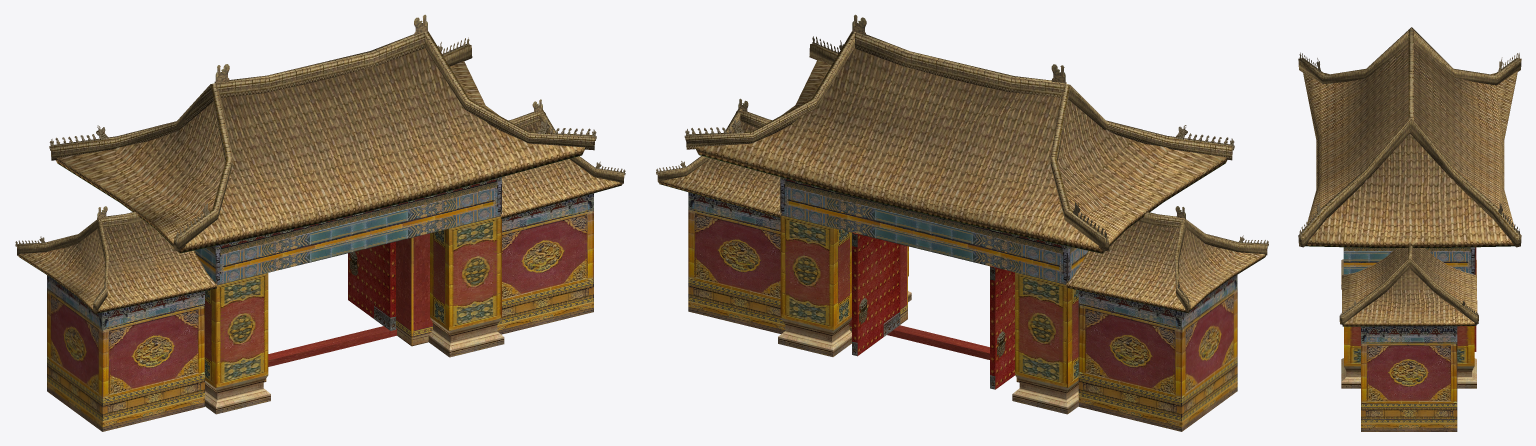
Rendered from cj_pal_bigdoor.glb.
3 views of the same model, side by side, from view 1: azimuth 30°, elevation 25°; view 2: azimuth 150°, elevation 25°; view 3: azimuth 270°, elevation 25° (orthographic). The views are drawn at different scales.
Parts seen in each view (by area): view 1: CJ_pal_bigdoor_roof01, CJ_pal_bigdoor_wall01, CJ_pal_bigdoor_door, CJ_pal_bigdoor_roof03_al, CJ_pal_bigdoor_roof02_al; view 2: CJ_pal_bigdoor_roof01, CJ_pal_bigdoor_wall01, CJ_pal_bigdoor_door, CJ_pal_bigdoor_roof03_al, CJ_pal_bigdoor_roof02_al; view 3: CJ_pal_bigdoor_roof01, CJ_pal_bigdoor_wall01, CJ_pal_bigdoor_roof03_al.
Part boxes in pixels (x1=…): CJ_pal_bigdoor_roof01: x1=17, y1=31, x2=624, y2=313; CJ_pal_bigdoor_wall01: x1=47, y1=177, x2=593, y2=431; CJ_pal_bigdoor_door: x1=348, y1=241, x2=395, y2=330; CJ_pal_bigdoor_roof03_al: x1=15, y1=37, x2=625, y2=304; CJ_pal_bigdoor_roof02_al: x1=97, y1=14, x2=542, y2=218; CJ_pal_bigdoor_roof01: x1=657, y1=31, x2=1267, y2=312; CJ_pal_bigdoor_wall01: x1=688, y1=177, x2=1237, y2=431; CJ_pal_bigdoor_door: x1=852, y1=232, x2=1014, y2=389; CJ_pal_bigdoor_roof03_al: x1=656, y1=36, x2=1268, y2=303; CJ_pal_bigdoor_roof02_al: x1=738, y1=14, x2=1185, y2=222; CJ_pal_bigdoor_roof01: x1=1298, y1=27, x2=1521, y2=326; CJ_pal_bigdoor_wall01: x1=1341, y1=247, x2=1476, y2=431; CJ_pal_bigdoor_roof03_al: x1=1299, y1=52, x2=1520, y2=317.
Bounding box in the file's own units: 33.08 × 18.43 × 13.82.
5 materials, 5 textured.
